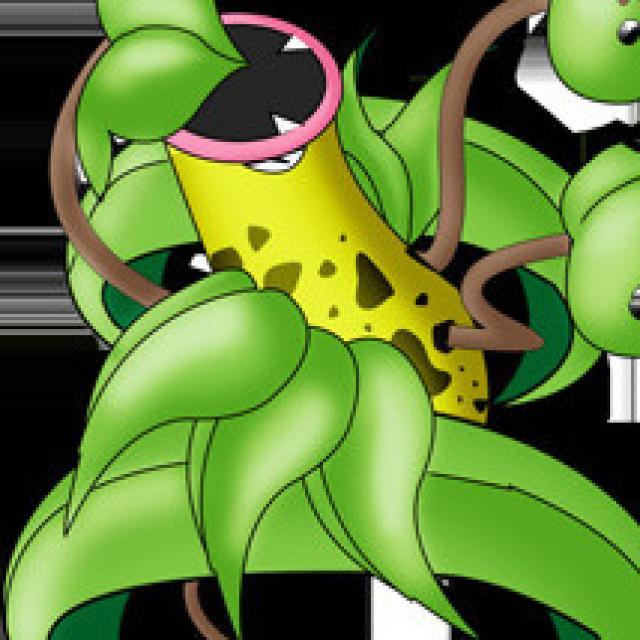Victreebel: (118, 0, 640, 439)
